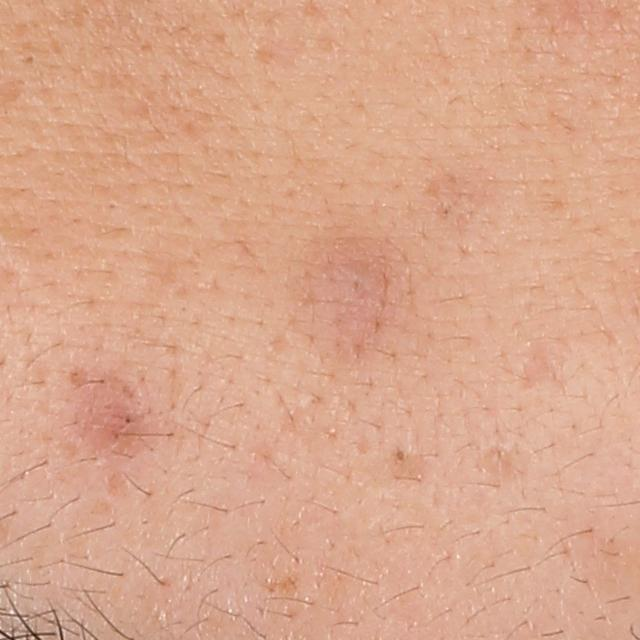atrophic_scar: (520, 335, 563, 394)
comedo: (383, 436, 418, 471), (18, 48, 39, 72)
